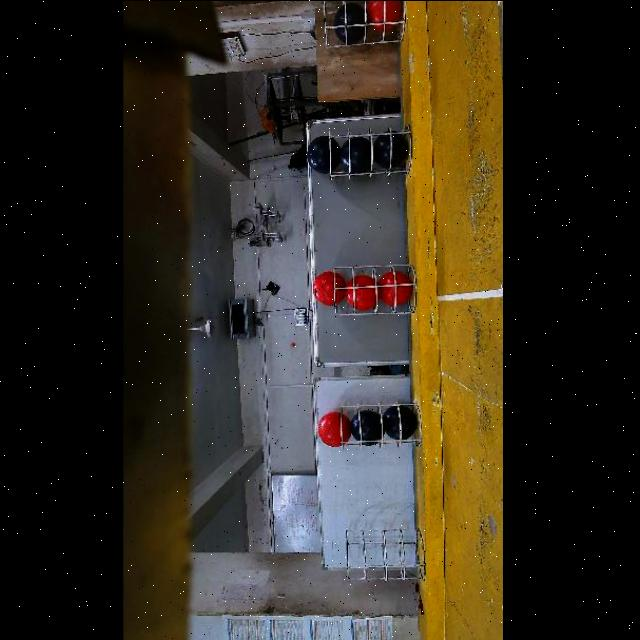P: (373, 127, 407, 168), (333, 1, 365, 44), (306, 135, 340, 173), (382, 405, 417, 440), (349, 409, 381, 445), (339, 136, 370, 173)
R: (318, 411, 351, 446), (378, 271, 411, 305), (366, 0, 401, 32), (344, 275, 376, 310), (312, 271, 344, 305)
S: (331, 261, 429, 321), (342, 524, 424, 584), (329, 124, 416, 180), (338, 401, 422, 453), (320, 0, 410, 48)
